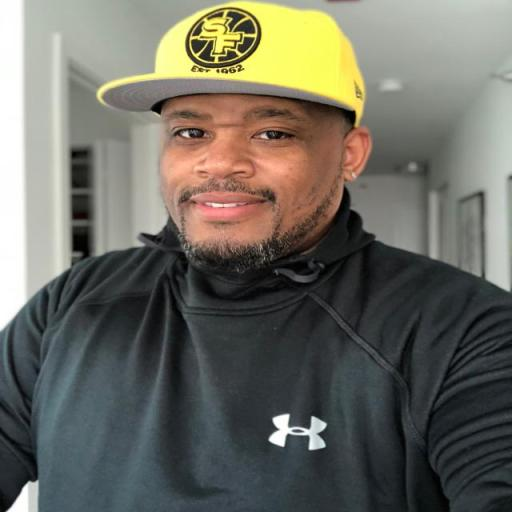Under Armour: (262, 410, 332, 454)
